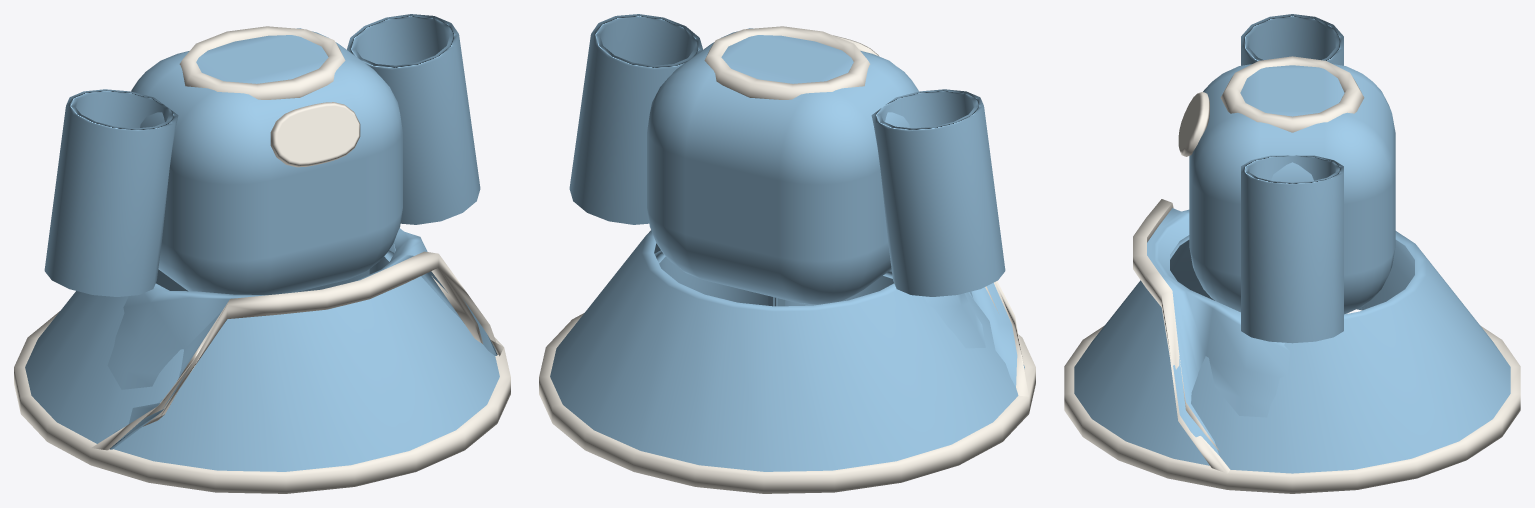
Rendered from cat_dress.glb.
3 renders of one model, left to right at view 1: azimuth 30°, elevation 25°; view 2: azimuth 150°, elevation 25°; view 3: azimuth 270°, elevation 25°, orthographic. The views are drawn at different scales.
Parts seen in each view (by area): view 1: cat_dress_Body, cat_dress_Body_sit, cat_dress_ArmL, cat_dress_ArmR; view 2: cat_dress_Body, cat_dress_ArmL, cat_dress_ArmR, cat_dress_Body_sit, cat_dress_LegR_sit, cat_dress_LegL_sit; view 3: cat_dress_Body, cat_dress_ArmR, cat_dress_Body_sit, cat_dress_ArmL.
Part boxes in pixels (bbox=[...]): cat_dress_Body: bbox=[14, 26, 510, 493]; cat_dress_Body_sit: bbox=[91, 58, 503, 450]; cat_dress_ArmL: bbox=[44, 89, 178, 296]; cat_dress_ArmR: bbox=[347, 14, 480, 224]; cat_dress_Body: bbox=[539, 26, 1035, 493]; cat_dress_ArmL: bbox=[871, 89, 1005, 296]; cat_dress_ArmR: bbox=[569, 14, 702, 224]; cat_dress_Body_sit: bbox=[647, 57, 1028, 396]; cat_dress_LegR_sit: bbox=[654, 250, 777, 306]; cat_dress_LegL_sit: bbox=[773, 271, 893, 306]; cat_dress_Body: bbox=[1064, 56, 1520, 493]; cat_dress_ArmR: bbox=[1241, 155, 1343, 343]; cat_dress_Body_sit: bbox=[1133, 115, 1414, 473]; cat_dress_ArmL: bbox=[1241, 14, 1343, 65].
Bounding box in the file's own units: 0.648 × 0.5289 × 0.6414.
